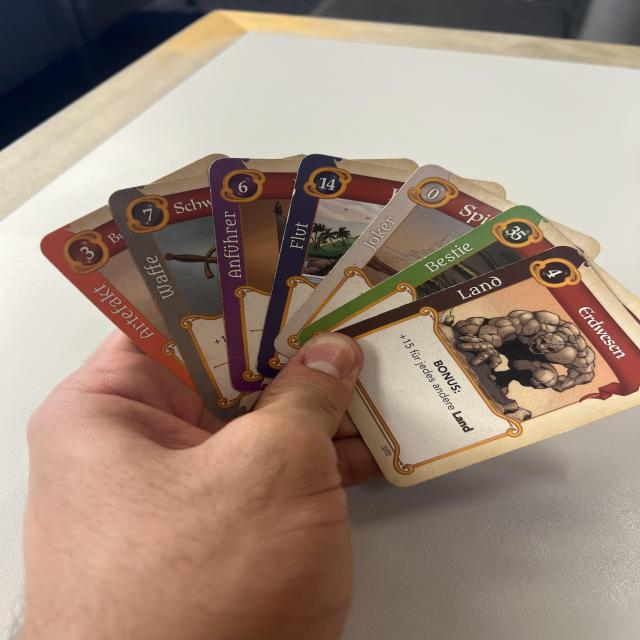Basilisk: (296, 200, 573, 344)
Book Of Changes: (36, 204, 199, 391)
Earth Elemental: (328, 244, 640, 489)
Island: (254, 153, 414, 360)
Mirage: (278, 161, 516, 332)
Queen: (208, 157, 301, 387)
Sword of Keth: (106, 174, 231, 417)
